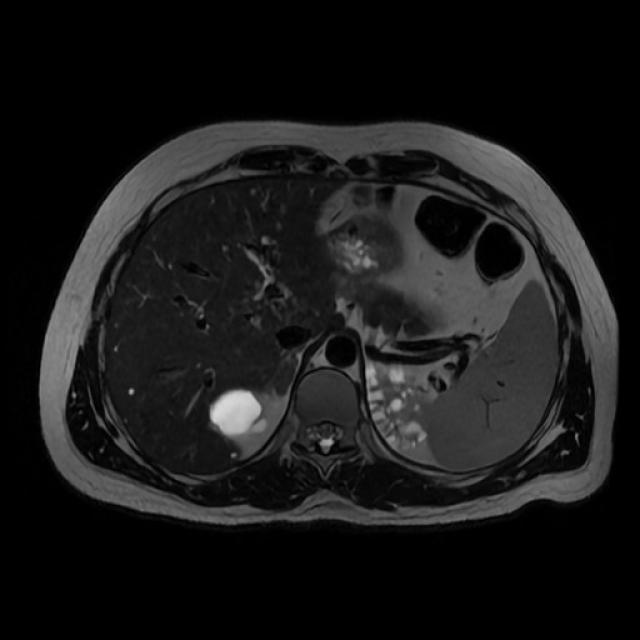sag: (209, 387, 266, 436)
sol: (365, 360, 429, 455)
